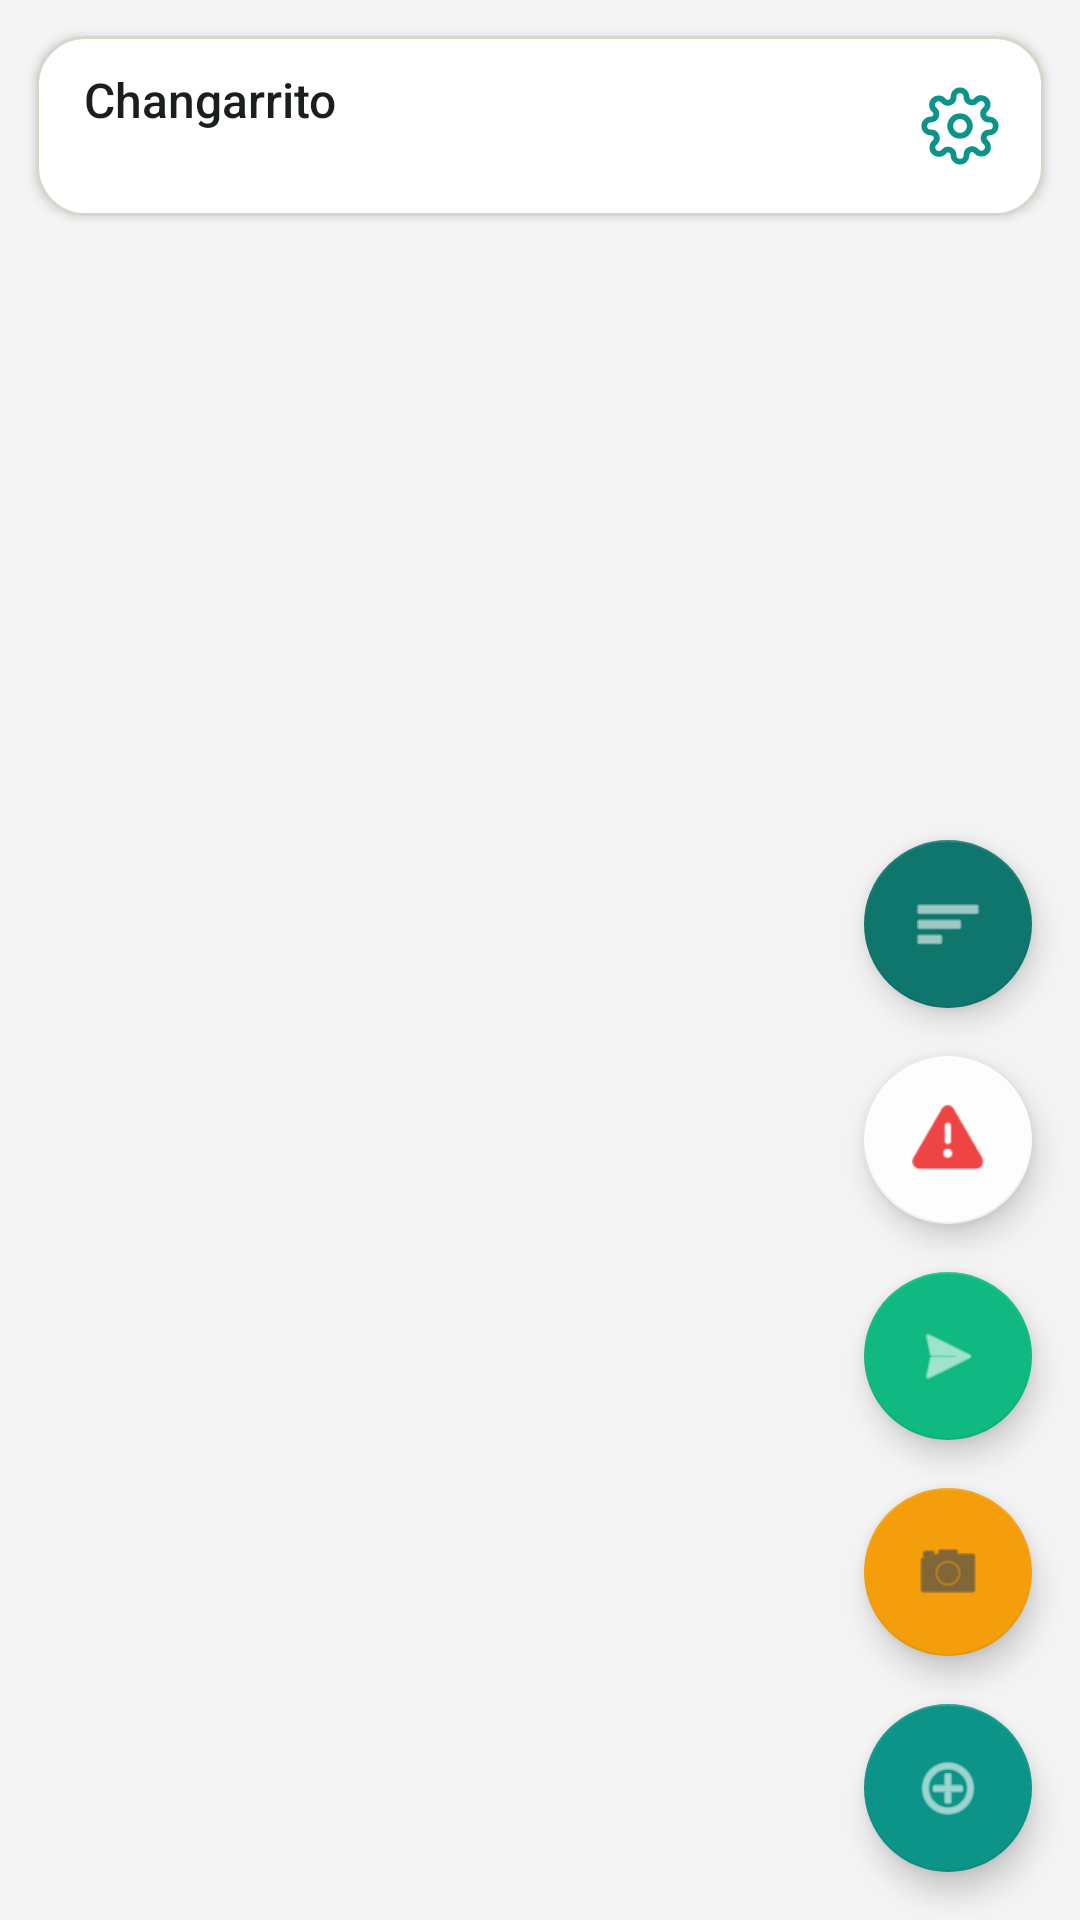

Screen size 1080px x 1920px. Icon name, then its box in pixels as (x1, y1, x2, y2):
Abrir ajustes: (921, 87, 999, 165)
Agregar producto: (864, 1704, 1032, 1872)
Alertas: (864, 1056, 1032, 1224)
Escanear codigo de barras: (864, 1488, 1032, 1656)
Reportes: (864, 840, 1032, 1008)
